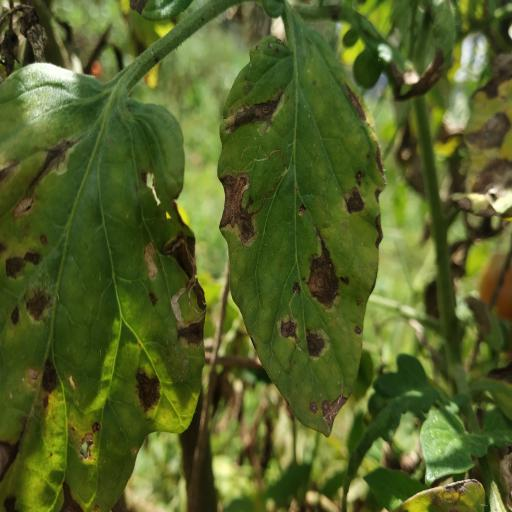Early Blight: (0, 62, 209, 512), (215, 32, 387, 440)
